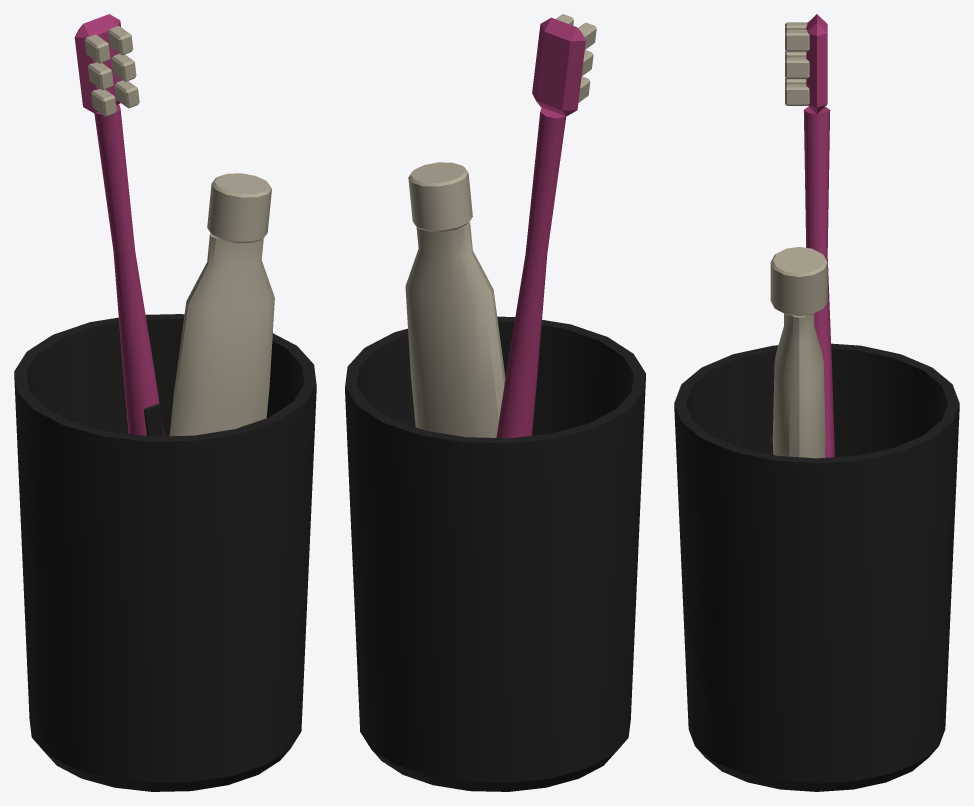
File: toothbrush-holder-vibe-5d309b721a62.glb
3 views of the same model, side by side, from view 1: azimuth 30°, elevation 25°; view 2: azimuth 150°, elevation 25°; view 3: azimuth 270°, elevation 25° (orthographic). The views are drawn at different scales.
Visible parts, largest first — view 1: rubber, plastic-light, accent-magenta; view 2: rubber, plastic-light, accent-magenta; view 3: rubber, plastic-light, accent-magenta.
Part boxes in pixels (left/top/right/bottom): rubber: left=14, top=314, right=316, bottom=791; plastic-light: left=84, top=25, right=274, bottom=436; accent-magenta: left=74, top=14, right=164, bottom=436; rubber: left=345, top=316, right=645, bottom=791; plastic-light: left=405, top=14, right=596, bottom=437; accent-magenta: left=496, top=17, right=585, bottom=438; rubber: left=674, top=343, right=959, bottom=791; plastic-light: left=770, top=22, right=827, bottom=458; accent-magenta: left=803, top=14, right=834, bottom=457.
Bounding box in the file's own units: 0.08 × 0.2147 × 0.08.
